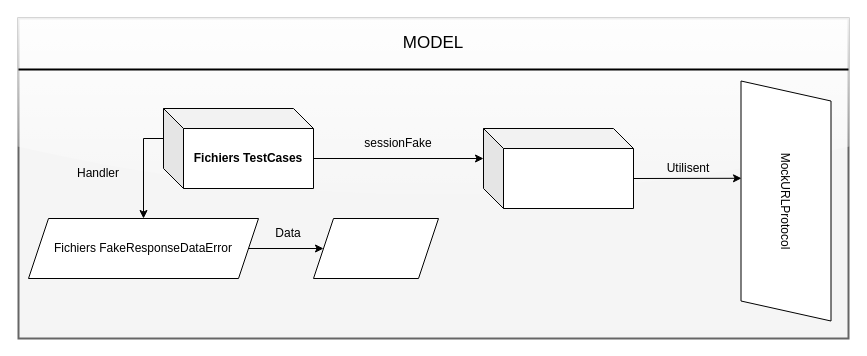
Some shapes in this 867 by 356 pixel diagram are drawn without their labels. Here are the shapes that lost their labels. From the top down, the centre of each, then its label:
At [558,168]: "Fichiers Service".
At [375,248]: "Fichiers .json".
